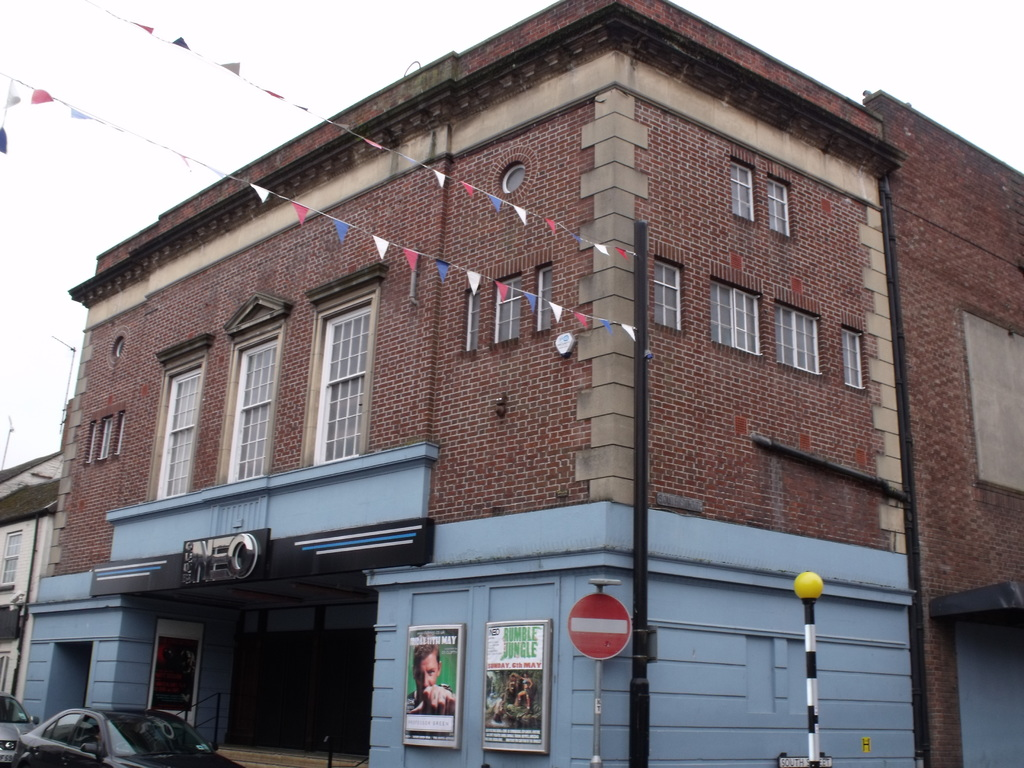Car: (12, 698, 243, 767), (0, 687, 40, 767)
